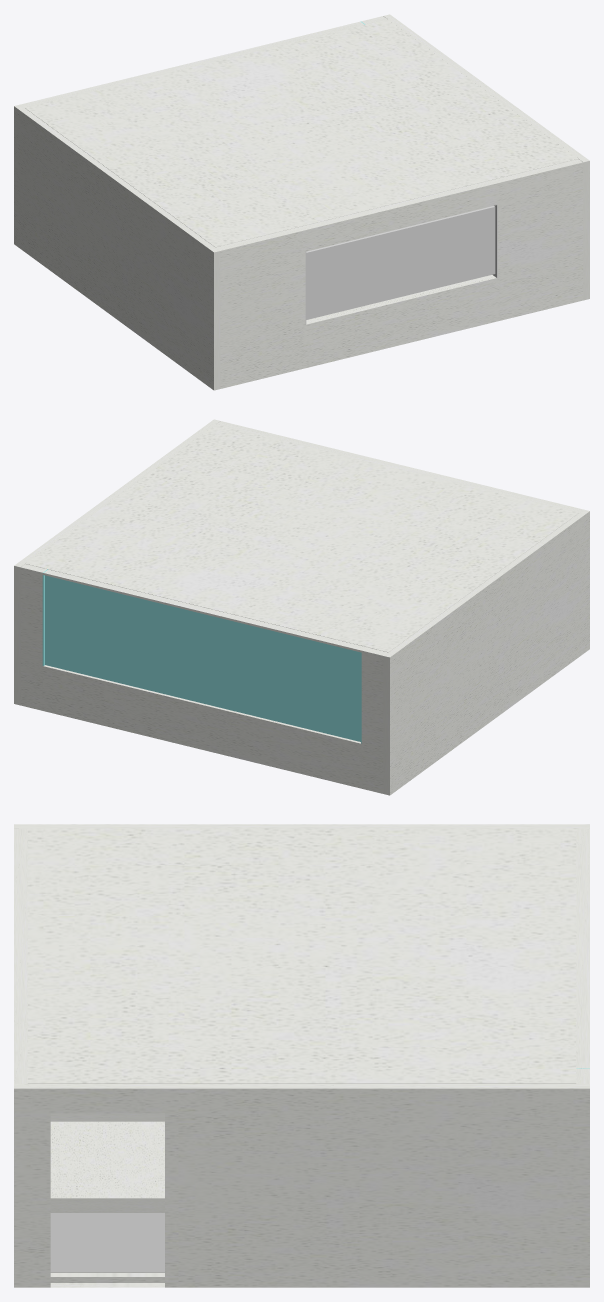
File: MaxExportedFBXFile.fbx
3 renders of one model, top to bottom at view 1: azimuth 30°, elevation 25°; view 2: azimuth 150°, elevation 25°; view 3: azimuth 270°, elevation 25°, orthographic. The views are drawn at different scales.
Visible parts, largest first — view 1: Techo, ParedFrontal, ParedIzquierda, AwningWindow001, ParedDerecha, ParedTrasera; view 2: Techo, ParedIzquierda, Ventana, ParedTrasera, ParedDerecha, ParedFrontal; view 3: Techo, ParedDerecha, Entrada, Suelo, ParedTrasera, ParedFrontal, ParedIzquierda.
Boxes of the visible parts, box(x1,y1,x2,y2) form: Techo: box(25, 19, 577, 247); ParedFrontal: box(216, 159, 583, 388); ParedIzquierda: box(14, 104, 220, 390); AwningWindow001: box(305, 205, 497, 324); ParedDerecha: box(383, 14, 589, 300); ParedTrasera: box(20, 16, 386, 107); Techo: box(26, 424, 578, 652); ParedIzquierda: box(383, 509, 589, 795); Ventana: box(42, 569, 361, 743); ParedTrasera: box(20, 564, 387, 793); ParedDerecha: box(14, 419, 220, 705); ParedFrontal: box(217, 421, 583, 512); Techo: box(27, 828, 576, 1083); ParedDerecha: box(14, 1084, 589, 1287); Entrada: box(50, 1121, 164, 1212); Suelo: box(50, 1213, 164, 1272); ParedTrasera: box(576, 828, 589, 1083); ParedFrontal: box(14, 828, 27, 1083); ParedIzquierda: box(14, 824, 589, 828).
Bounding box in the file's own units: 269 × 94.69 × 248.
